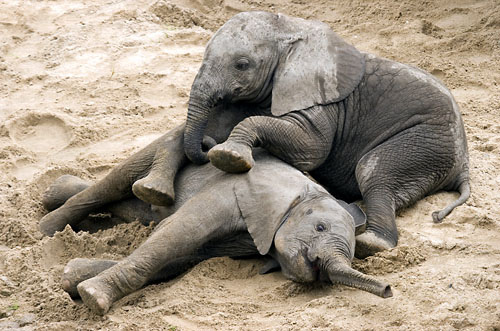elephant: (141, 3, 476, 247), (33, 130, 397, 331)
